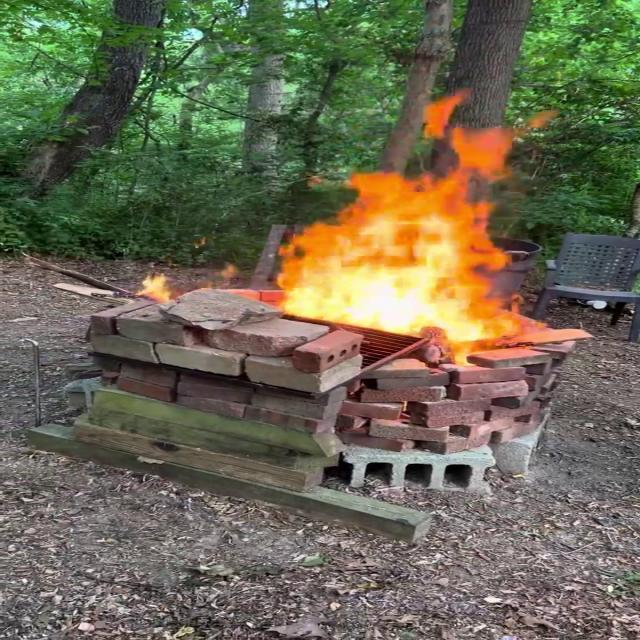Fire: (262, 93, 551, 361)
